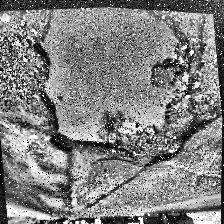pothole: (29, 2, 203, 176)
